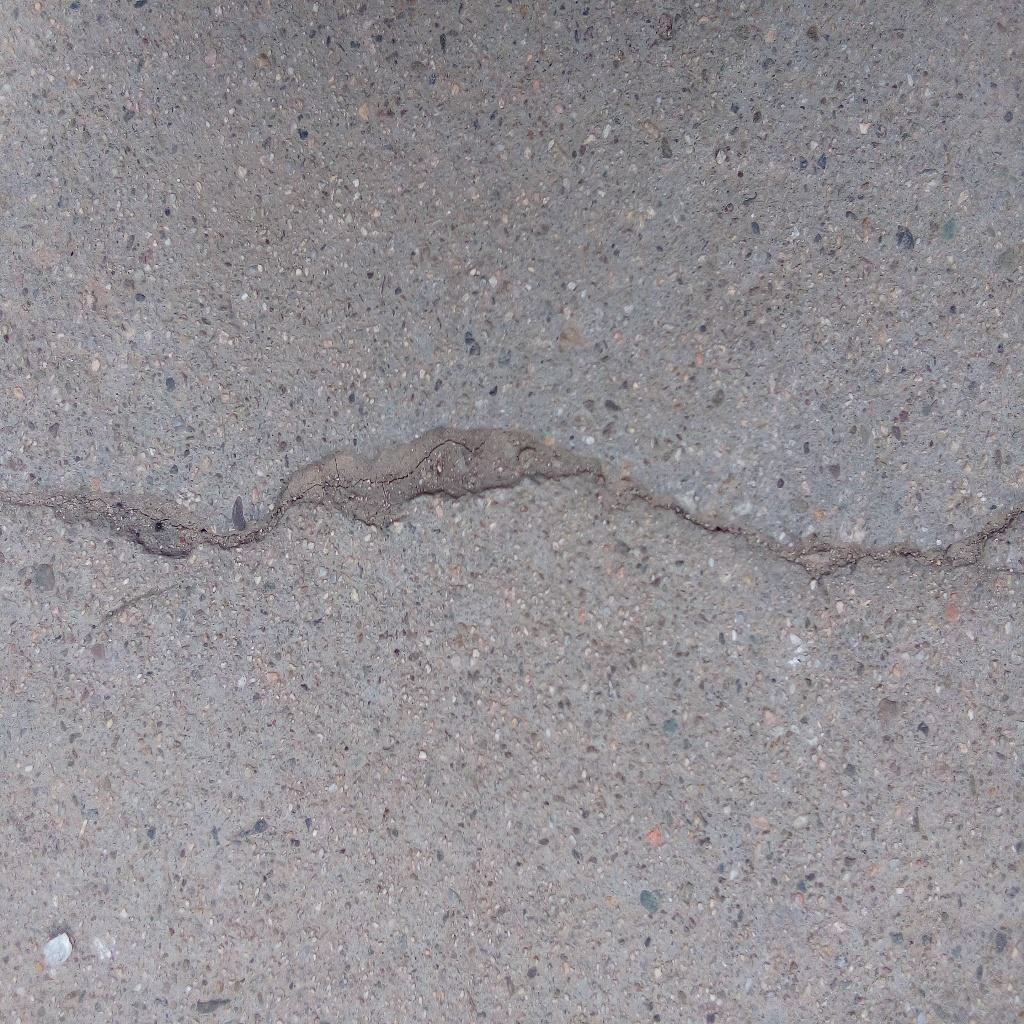Crack: (1, 424, 1024, 581)
